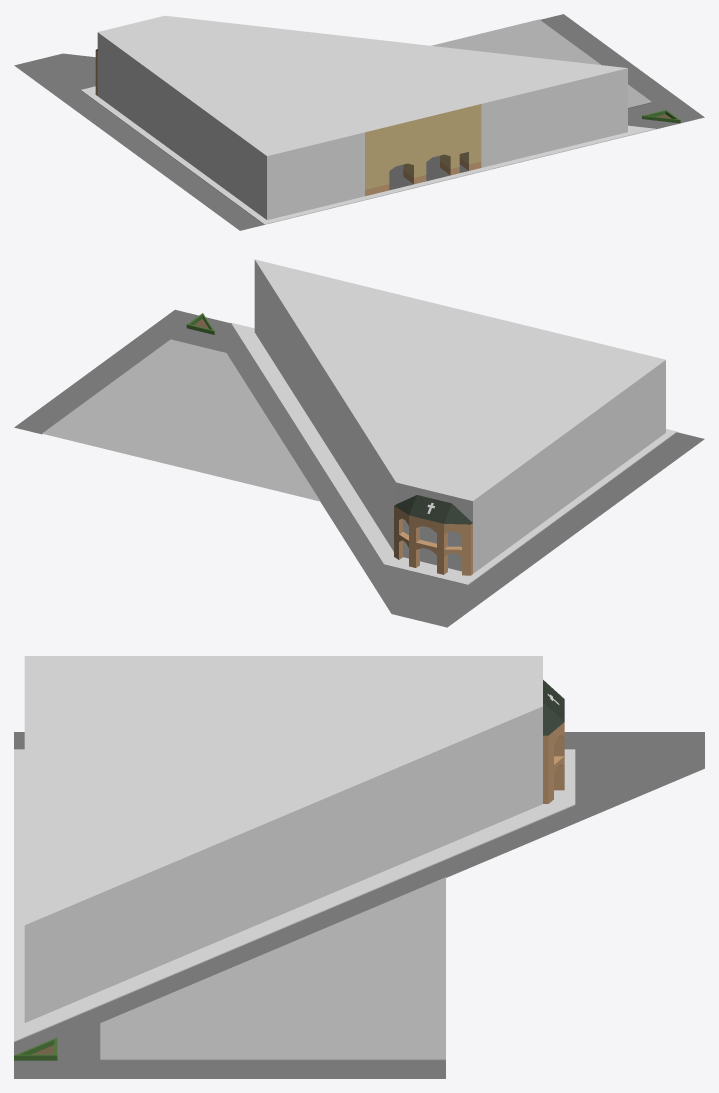
Rendered from market.glb.
3 renders of one model, top to bottom at view 1: azimuth 30°, elevation 25°; view 2: azimuth 150°, elevation 25°; view 3: azimuth 270°, elevation 25°, orthographic. The views are drawn at different scales.
Visible parts, largest first — view 1: Facade, Roads, Entrance, Ground, Sidewalk, Floor; view 2: Facade, Ground, Roads, Sidewalk, Arch; view 3: Facade, Ground, Roads, Sidewalk, Arch.
Part boxes in pixels (bbox=[...]): Facade: bbox=[97, 15, 627, 219]; Roads: bbox=[14, 14, 704, 230]; Entrance: bbox=[365, 104, 481, 196]; Ground: bbox=[431, 19, 680, 123]; Sidewalk: bbox=[81, 86, 655, 224]; Floor: bbox=[389, 155, 468, 190]; Facade: bbox=[254, 259, 665, 573]; Ground: bbox=[42, 313, 320, 501]; Roads: bbox=[14, 309, 704, 627]; Sidewalk: bbox=[231, 322, 676, 585]; Arch: bbox=[394, 495, 472, 575]; Facade: bbox=[24, 656, 542, 1022]; Ground: bbox=[14, 877, 445, 1060]; Roads: bbox=[14, 732, 704, 1078]; Sidewalk: bbox=[14, 749, 575, 1042]; Arch: bbox=[543, 680, 564, 803].
Size of what is drawn, in the model's own units: 76 by 10.1 by 64.
